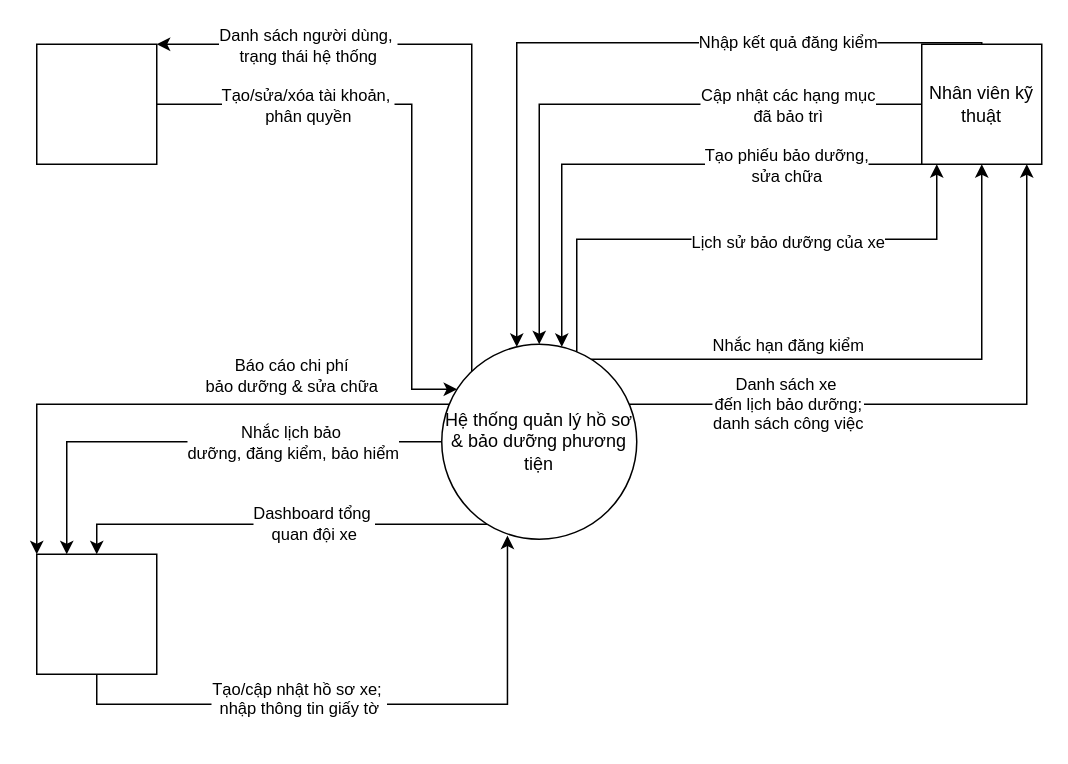
Image size: 1068x764. Some labels were removed from this diagram. Each missing label, with the centre of its shape:
Quản lý đội xe: the point at 96,613
Quản trị hệ thống: the point at 96,103
